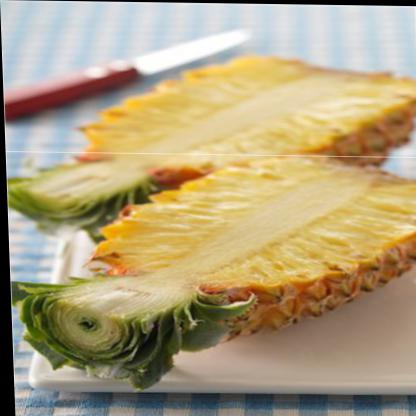pineapple: (4, 150, 415, 393), (1, 50, 415, 248)
